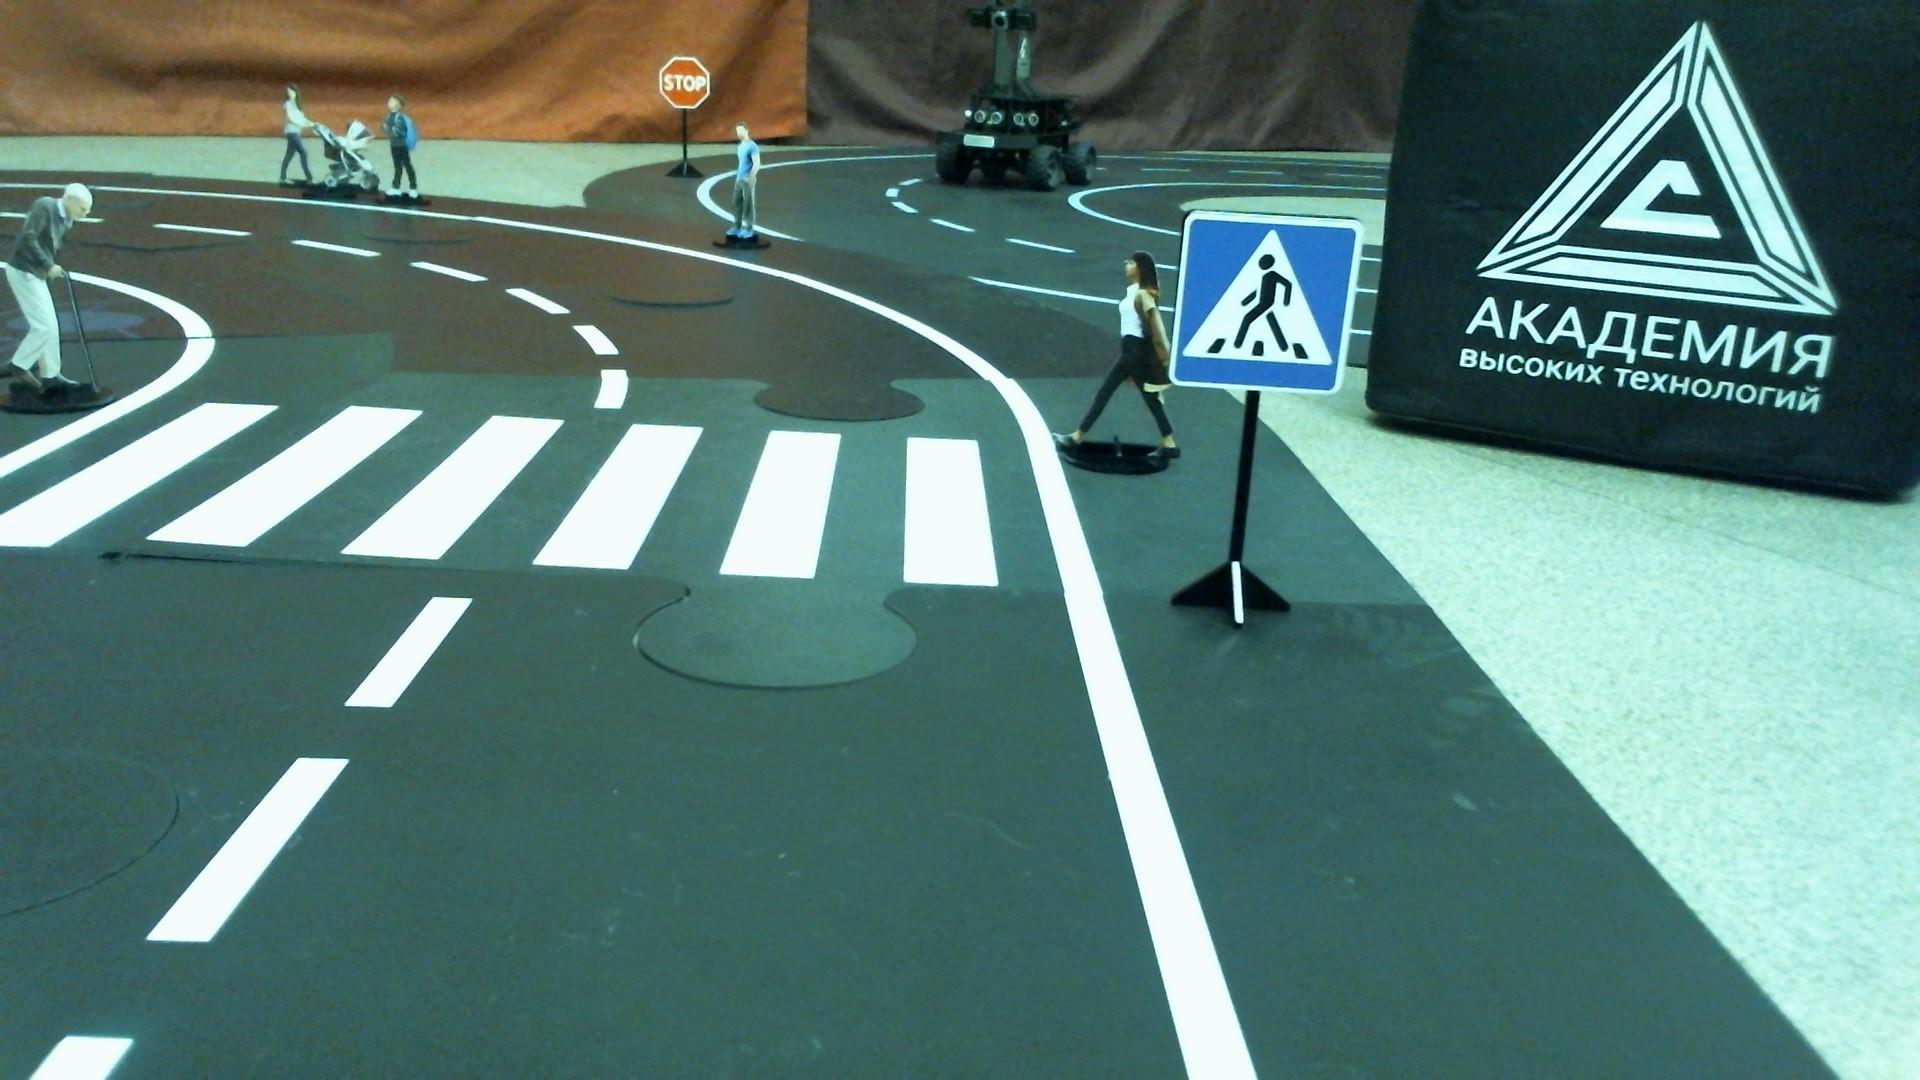crossing: (0, 395, 1075, 592)
person: (1062, 252, 1183, 473), (0, 177, 95, 412), (272, 87, 372, 193), (722, 127, 768, 252), (377, 95, 425, 202)
